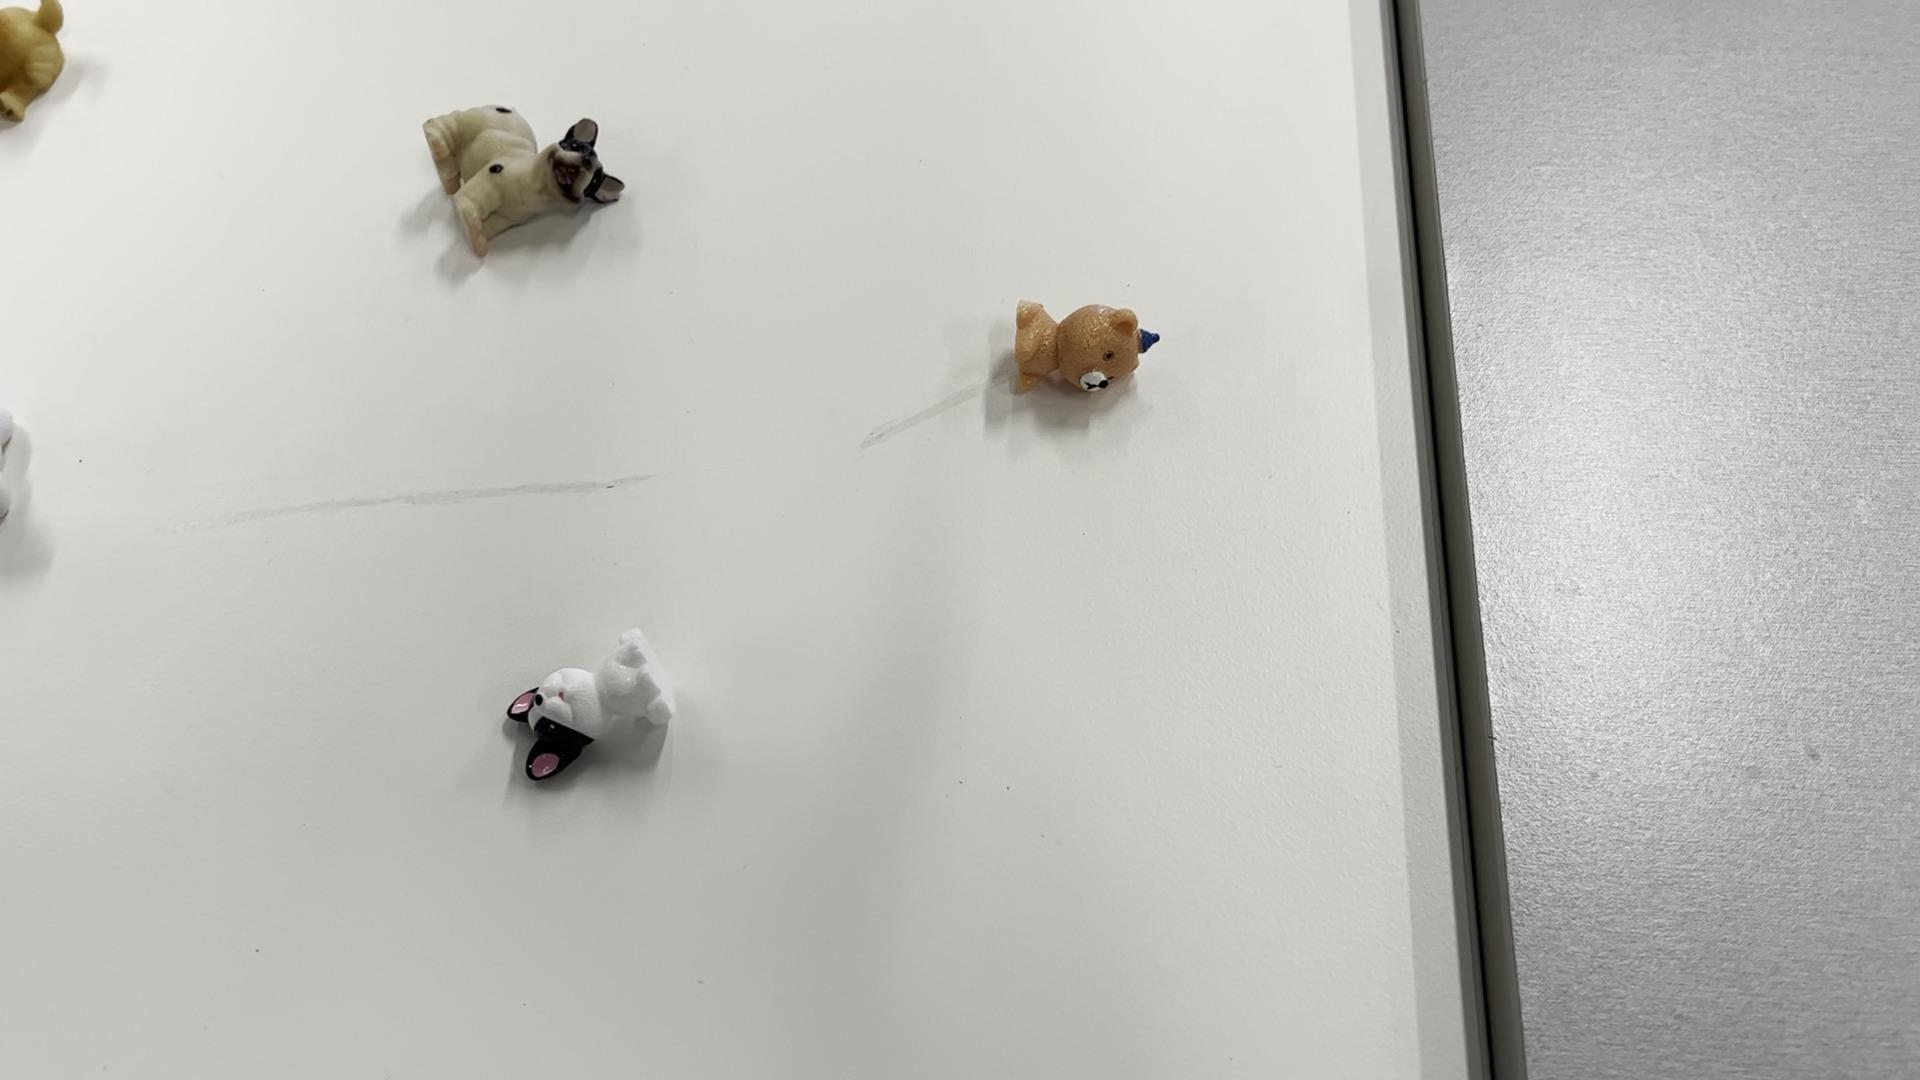pet: (401, 78, 632, 262), (489, 613, 695, 795), (985, 305, 1158, 406), (0, 0, 95, 145)
